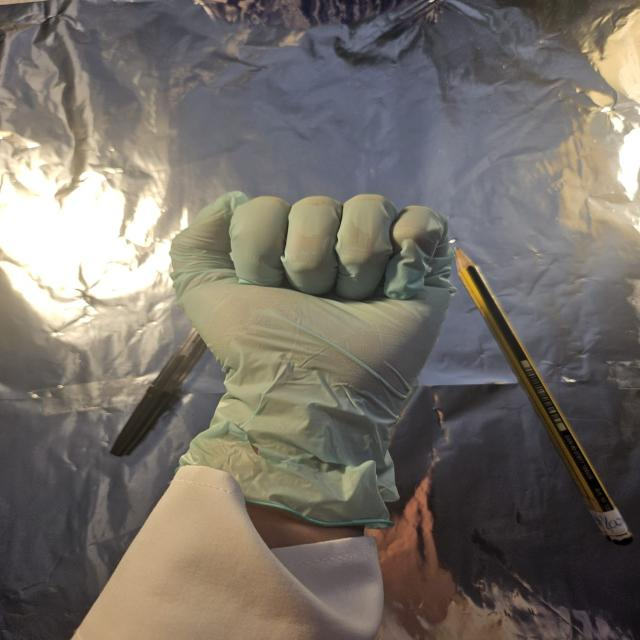gloves_damaged: (174, 191, 457, 530)
